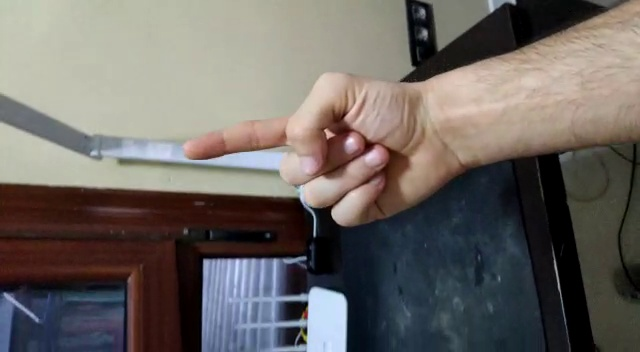One: (180, 72, 342, 210)
